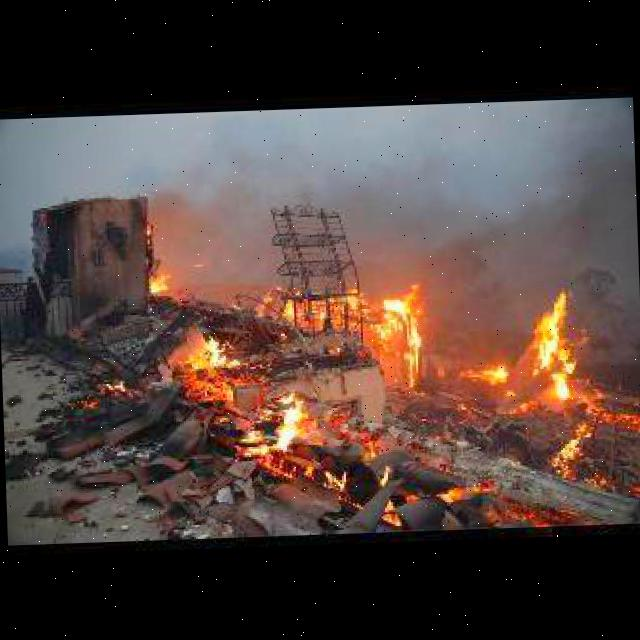fire: (168, 320, 331, 469), (288, 254, 445, 403), (475, 278, 587, 398), (260, 455, 348, 506), (540, 412, 600, 484), (434, 474, 498, 516), (350, 431, 396, 489), (134, 258, 179, 302), (95, 371, 128, 400)
